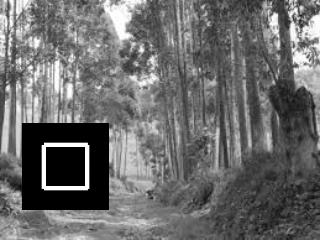square: (22, 123, 109, 210)
